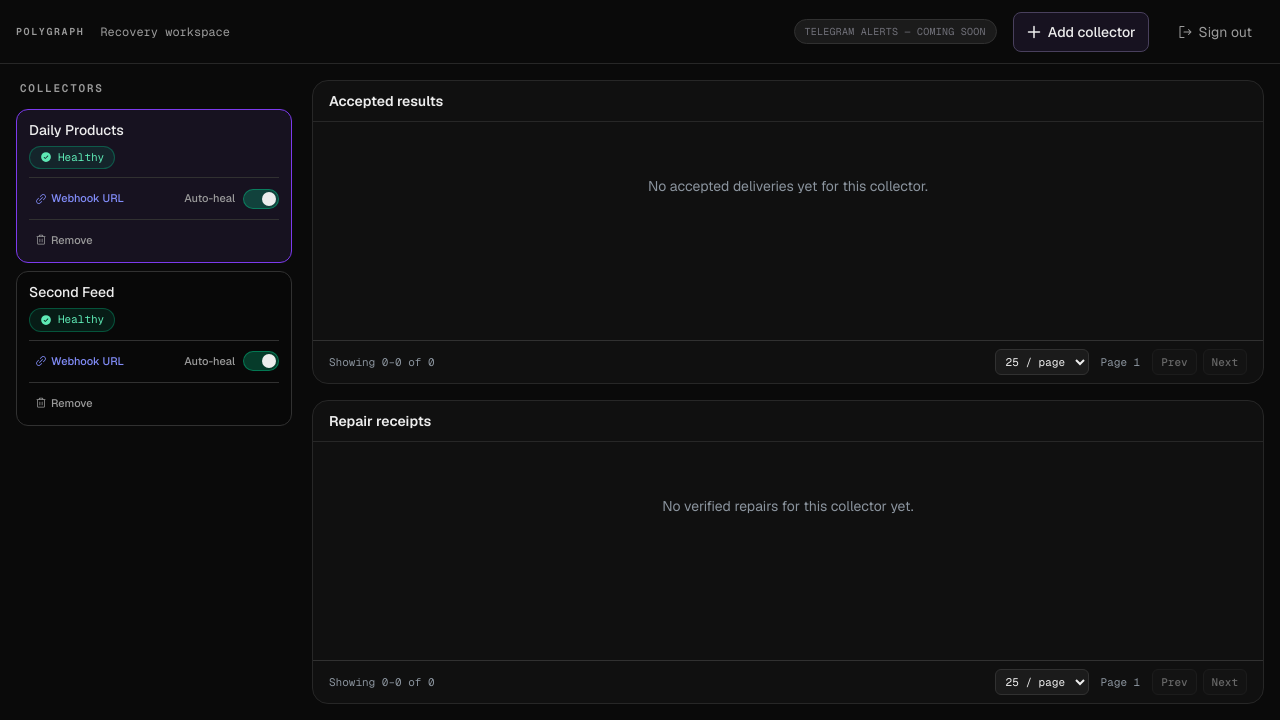
it: CollectorRail — per-collector webhook URL › says "Rotate to generate a URL" for a token that predates encrypted storage
This screenshot has width=1280, height=720.
Step 1. Click the 1st button "Webhook URL" → (80, 199), box [29,186,130,211]
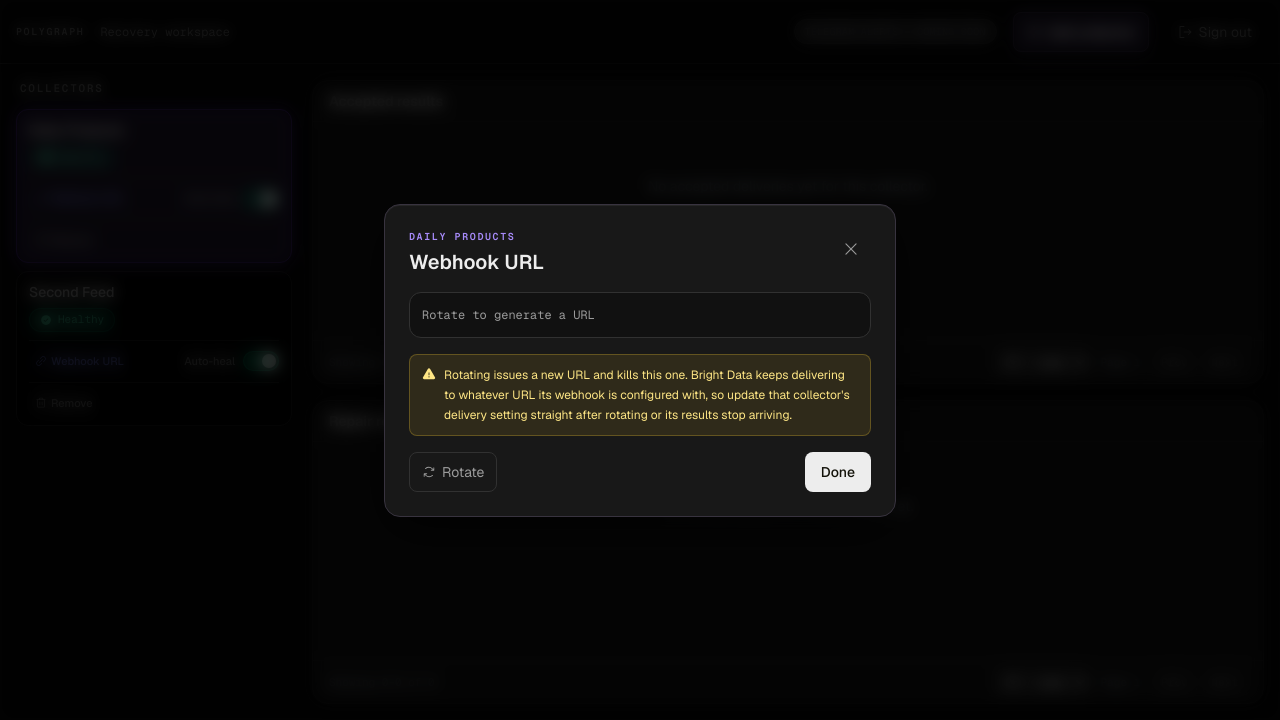
Result: the text "Rotate to generate a URL" is shown at [422,306,595,322]
